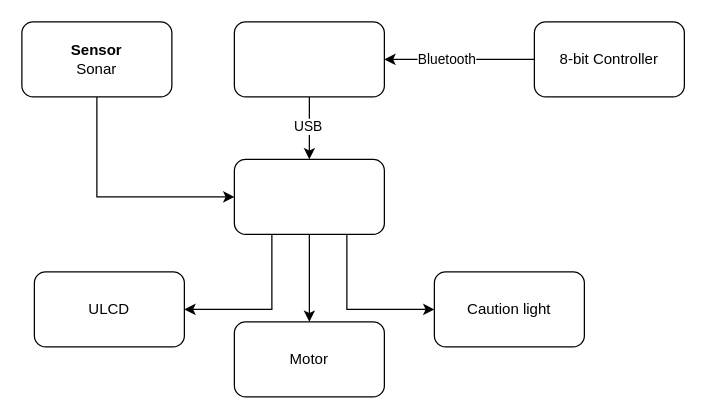
The diagram is 706 pixels wide and 419 high, and some of its shapes have lost their labels. Each missing label, with the centre of its shape:
MBED LPCX1768: point 308,196
Raspberry pi: point 308,59
